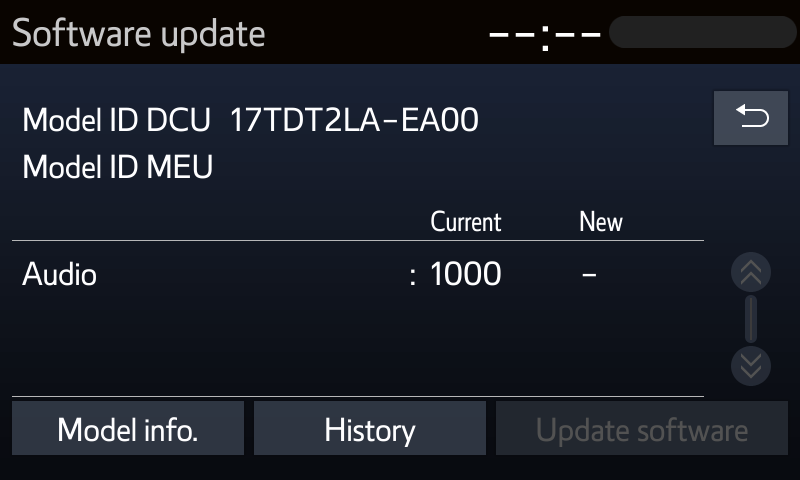touchPart: (250, 399, 489, 460), (10, 400, 248, 456), (712, 90, 792, 150)
untouchPart: (12, 103, 706, 310), (494, 399, 788, 457), (482, 6, 795, 56), (14, 13, 269, 57), (729, 346, 779, 388), (734, 253, 771, 294)
